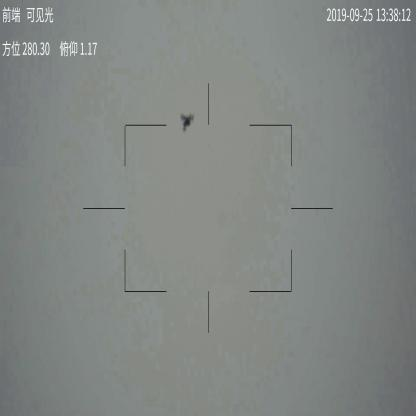uav: (180, 112, 196, 134)
